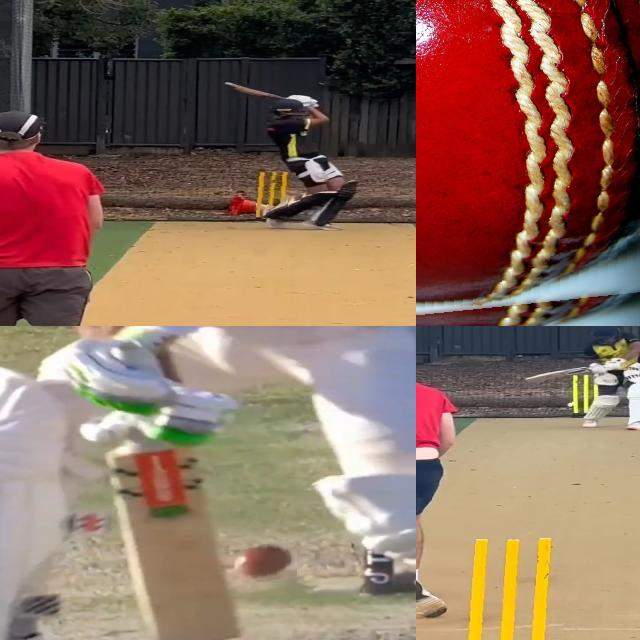Cricket ball: (416, 0, 640, 326), (233, 544, 297, 583), (567, 401, 577, 409)
Stumps: (462, 538, 572, 640), (256, 170, 291, 219)
